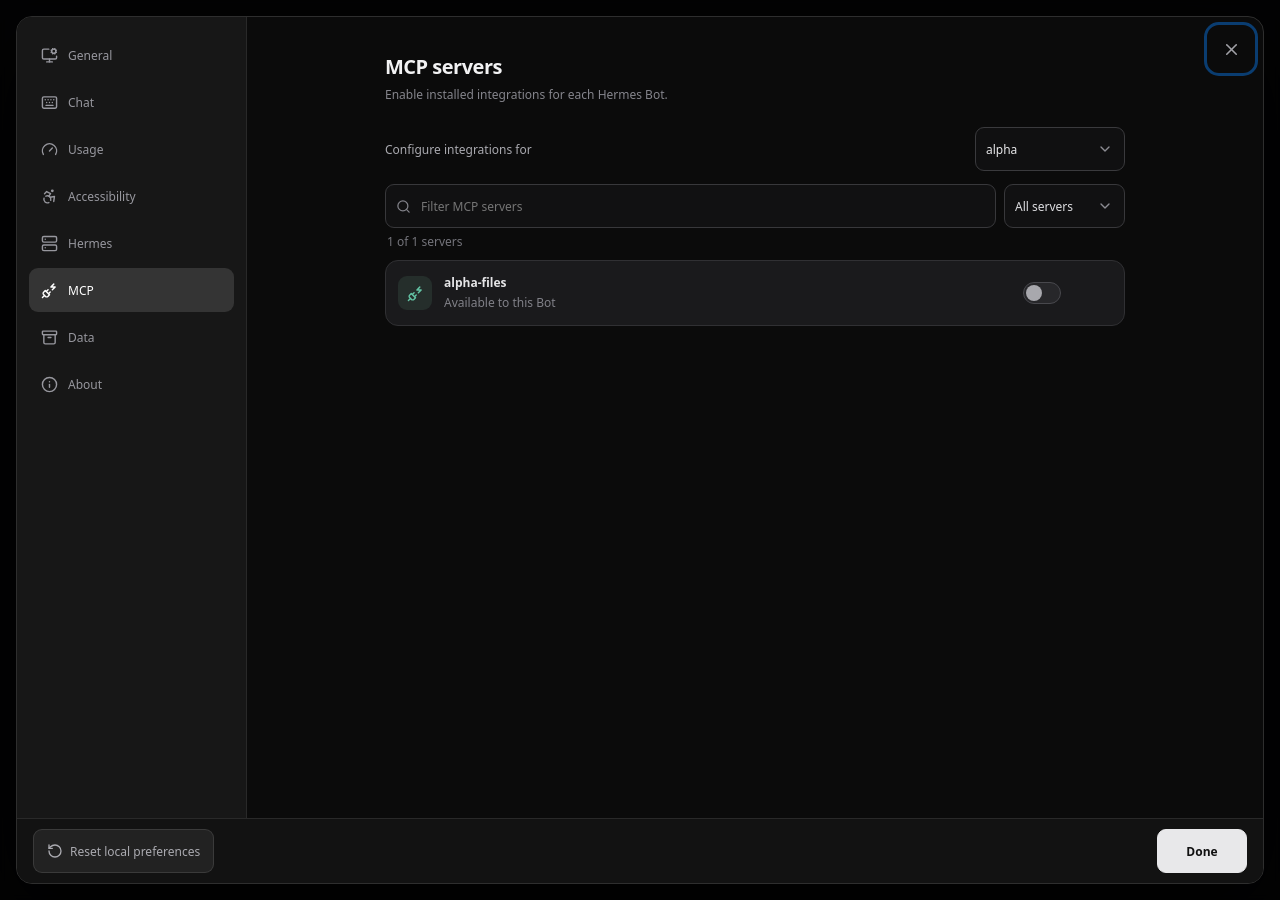
does not replace the selected Bot's MCP settings with a late save from another Bot
Click the switch named "Enable alpha-files".
click(1042, 293)  # box [1023, 282, 1061, 304]
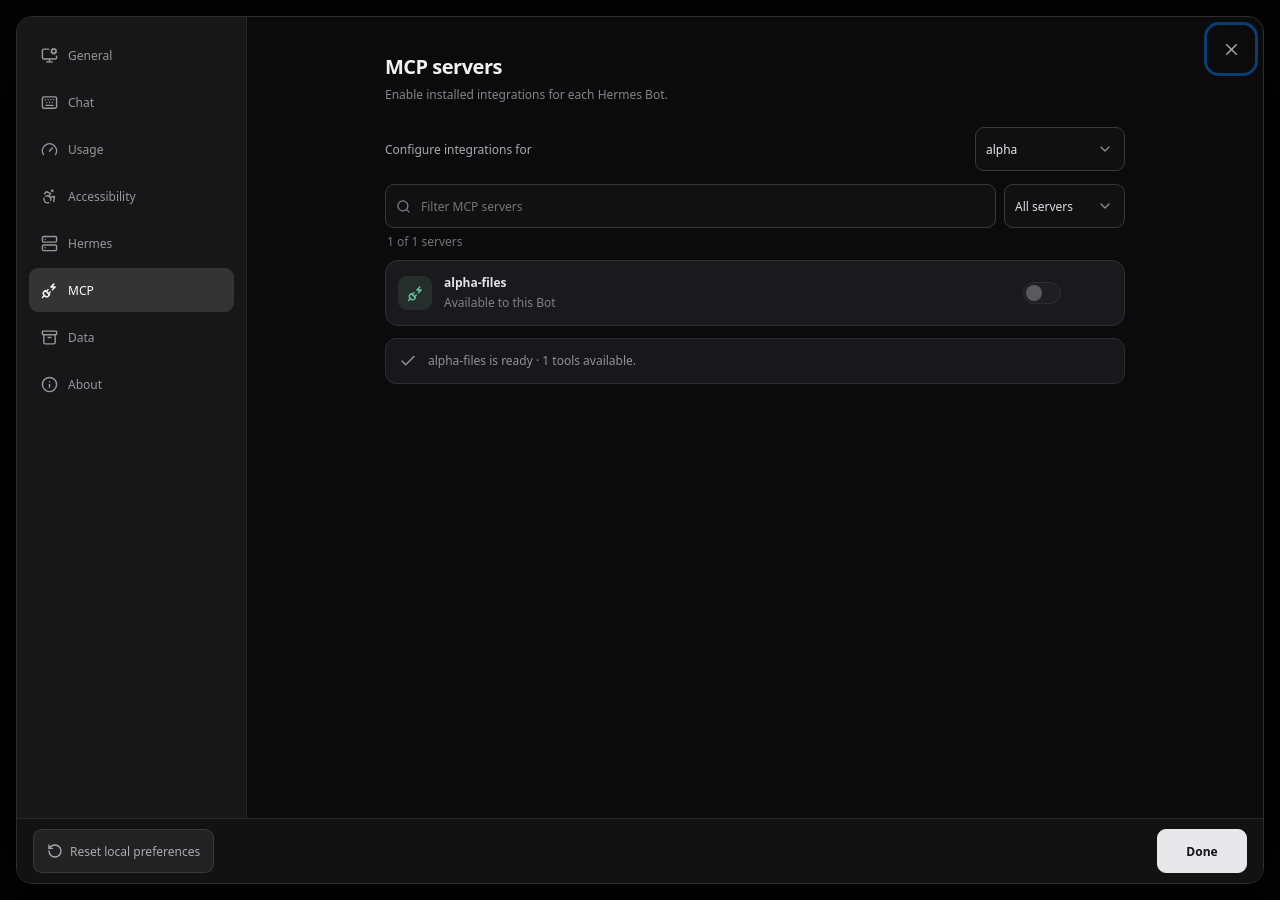
Select "beta" in the dropdown labelled "Configure integrations for" at (1050, 149), box [975, 127, 1125, 171]
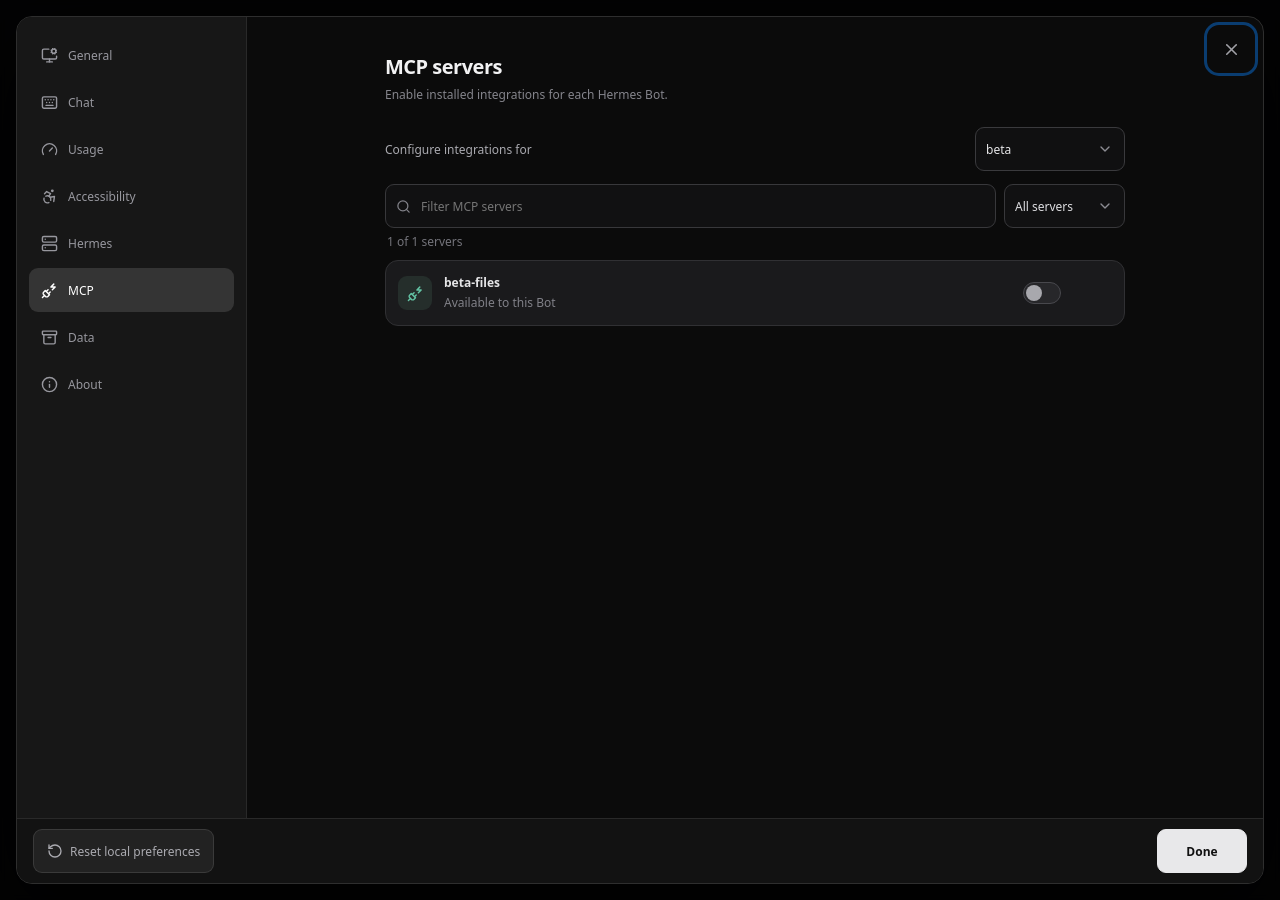
Check: the switch named "Enable beta-files" is not checked, box [1023, 282, 1061, 304]
Check: the switch named "Enable beta-files" is shown, box [1023, 282, 1061, 304]
